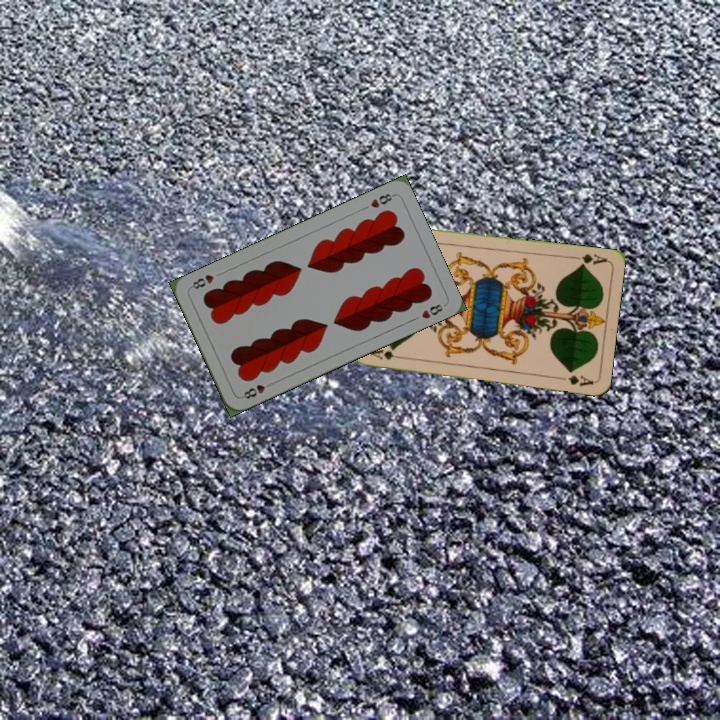GA: (569, 250, 609, 269), (367, 346, 408, 362)
H8: (237, 378, 276, 402), (366, 189, 397, 211)
